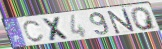4: (71, 14, 90, 40)
9: (89, 11, 111, 36)
C: (22, 19, 46, 43)
N: (106, 8, 137, 35)
Q: (130, 6, 158, 32)
X: (41, 16, 73, 42)
